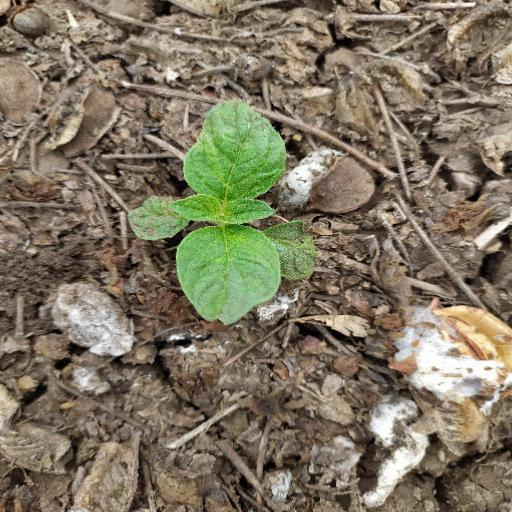crop: (122, 91, 316, 331)
